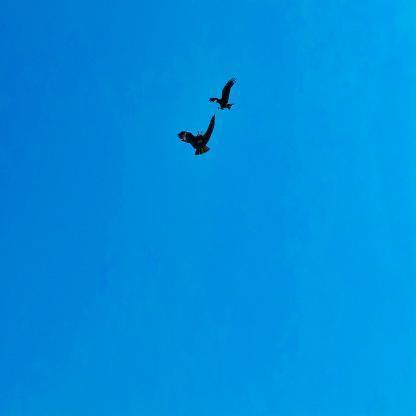bird: (178, 114, 216, 156), (209, 78, 236, 111)
